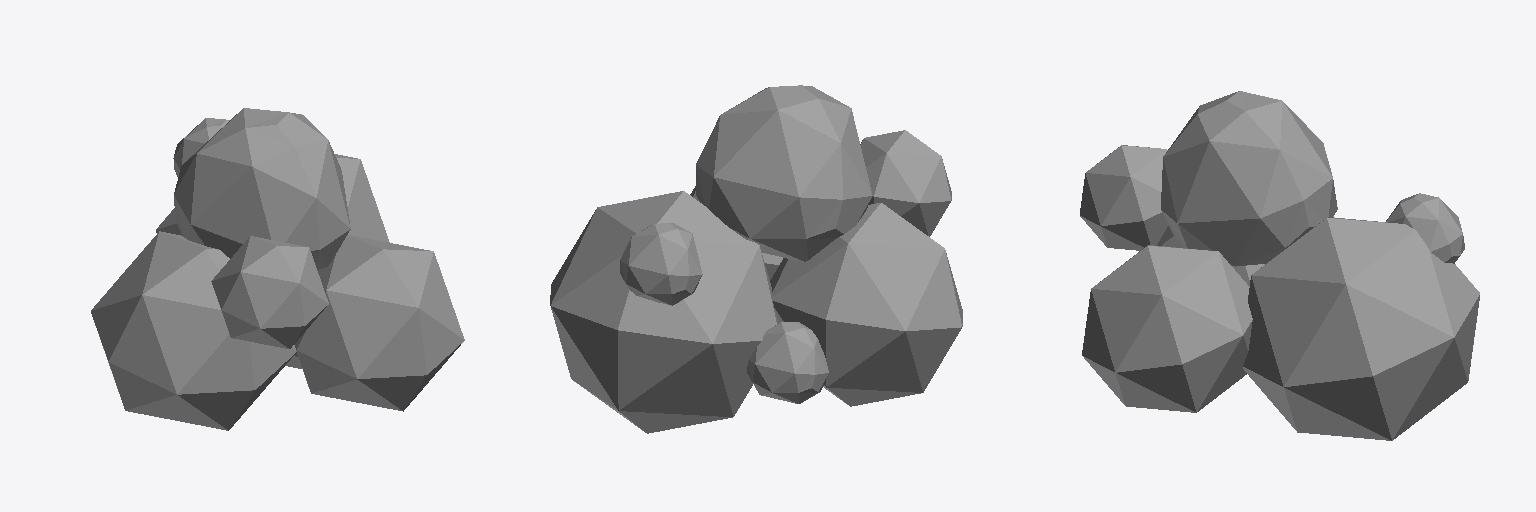
Rendered from Rocks1.obj.
3 views of the same model, side by side, from view 1: azimuth 30°, elevation 25°; view 2: azimuth 150°, elevation 25°; view 3: azimuth 270°, elevation 25° (orthographic).
Visible parts, largest first — view 1: Nullo_Cespuglio_Sfera_10, Nullo_Cespuglio_Sfera_3, Nullo_Cespuglio_Sfera_12, Nullo_Cespuglio_Sfera4, Nullo_Cespuglio_Sfera_22, Nullo_Cespuglio_Sfera_52; view 2: Nullo_Cespuglio_Sfera_22, Nullo_Cespuglio_Sfera_10, Nullo_Cespuglio_Sfera_12, Nullo_Cespuglio_Sfera4, Nullo_Cespuglio_Sfera_52, Nullo_Cespuglio_Sfera_4; view 3: Nullo_Cespuglio_Sfera_22, Nullo_Cespuglio_Sfera_12, Nullo_Cespuglio_Sfera_3, Nullo_Cespuglio_Sfera4, Nullo_Cespuglio_Sfera_52.
Part boxes in pixels (left/top/right/bottom): Nullo_Cespuglio_Sfera_10: left=91, top=231, right=296, bottom=430; Nullo_Cespuglio_Sfera_3: left=294, top=235, right=464, bottom=411; Nullo_Cespuglio_Sfera_12: left=174, top=108, right=350, bottom=271; Nullo_Cespuglio_Sfera4: left=211, top=236, right=328, bottom=348; Nullo_Cespuglio_Sfera_22: left=156, top=154, right=389, bottom=368; Nullo_Cespuglio_Sfera_52: left=173, top=118, right=229, bottom=176; Nullo_Cespuglio_Sfera_22: left=550, top=191, right=778, bottom=433; Nullo_Cespuglio_Sfera_10: left=770, top=203, right=962, bottom=406; Nullo_Cespuglio_Sfera_12: left=696, top=85, right=872, bottom=261; Nullo_Cespuglio_Sfera4: left=860, top=130, right=951, bottom=236; Nullo_Cespuglio_Sfera_52: left=620, top=223, right=702, bottom=305; Nullo_Cespuglio_Sfera_4: left=747, top=322, right=828, bottom=403; Nullo_Cespuglio_Sfera_22: left=1243, top=217, right=1479, bottom=440; Nullo_Cespuglio_Sfera_12: left=1161, top=91, right=1337, bottom=266; Nullo_Cespuglio_Sfera_3: left=1082, top=245, right=1252, bottom=412; Nullo_Cespuglio_Sfera4: left=1080, top=145, right=1173, bottom=250; Nullo_Cespuglio_Sfera_52: left=1386, top=193, right=1464, bottom=263.
Size of the model in its own units: 210 by 179 by 214.